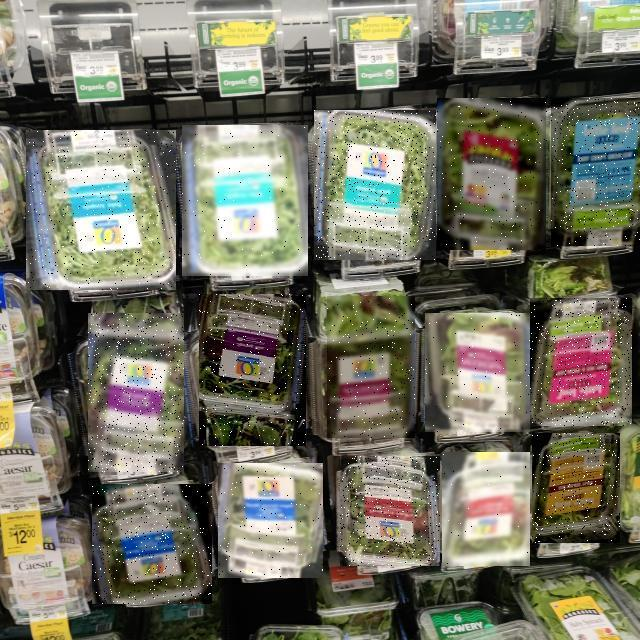Lettuce: (26, 130, 176, 290), (182, 126, 308, 278), (314, 111, 436, 261), (438, 98, 548, 250), (199, 294, 306, 446), (88, 314, 184, 474), (92, 484, 212, 604), (551, 98, 640, 246), (530, 299, 632, 427), (425, 314, 530, 434), (327, 296, 415, 438), (218, 463, 323, 578), (340, 456, 440, 566), (442, 452, 530, 566), (533, 433, 621, 543)
